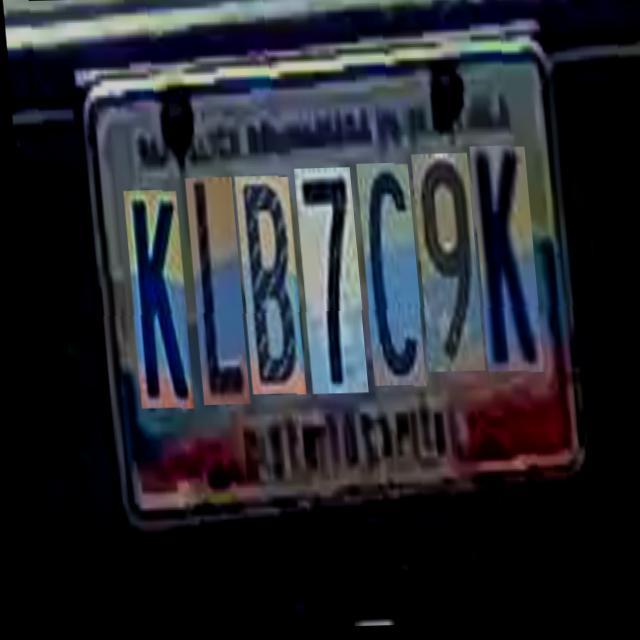7: (290, 166, 360, 392)
9: (407, 151, 478, 370)
B: (230, 176, 298, 394)
C: (352, 162, 418, 385)
K: (465, 144, 536, 370), (118, 190, 186, 410)
L: (180, 176, 242, 404)
